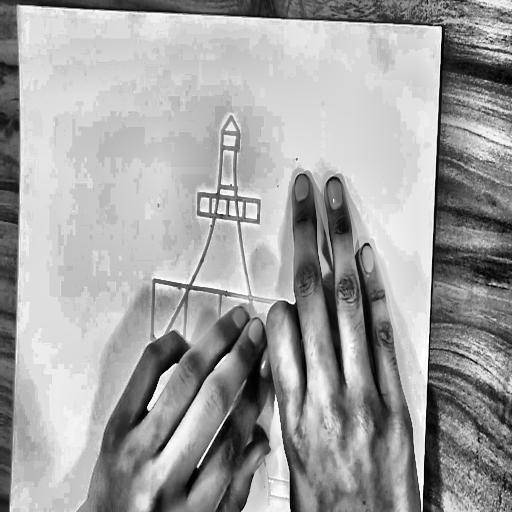eiffel-tower: (87, 68, 361, 509)
top_left: (14, 0, 20, 11)
top_right: (437, 20, 445, 34)
